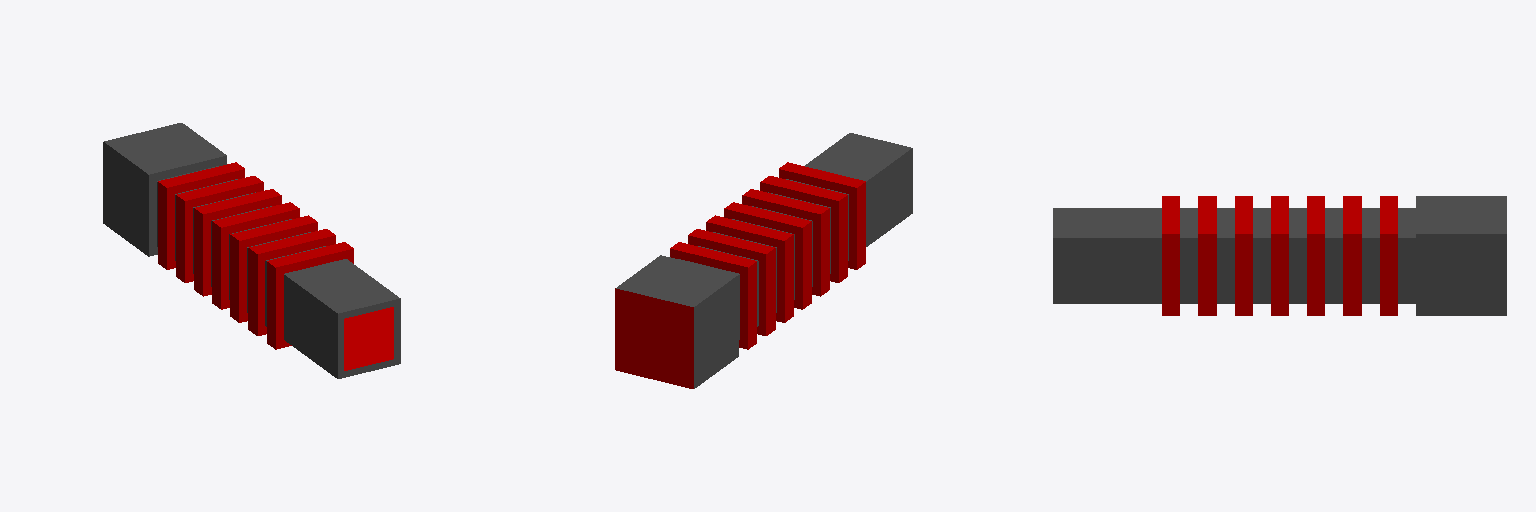
File: Laser_Cannon.obj
The picture shows the model from 3 angles: view 1: azimuth 30°, elevation 25°; view 2: azimuth 150°, elevation 25°; view 3: azimuth 270°, elevation 25°; orthographic projection.
Visible parts, largest first — view 1: Laser_Cannon_Cube.010; view 2: Laser_Cannon_Cube.010; view 3: Laser_Cannon_Cube.010.
Boxes of the visible parts, x1,y1,x2,y2 form: Laser_Cannon_Cube.010: [103, 123, 400, 378]; Laser_Cannon_Cube.010: [615, 133, 912, 388]; Laser_Cannon_Cube.010: [1053, 196, 1506, 315].
Size of the model in its own units: 1 by 1 by 5.